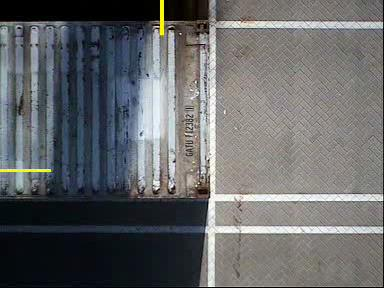groundmarker_2: (203, 71, 253, 146)
